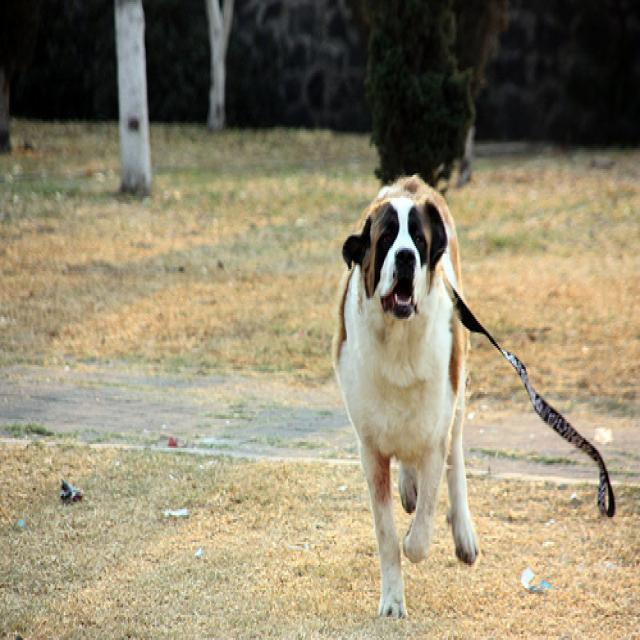dog-saint_bernard: (326, 167, 484, 634)
